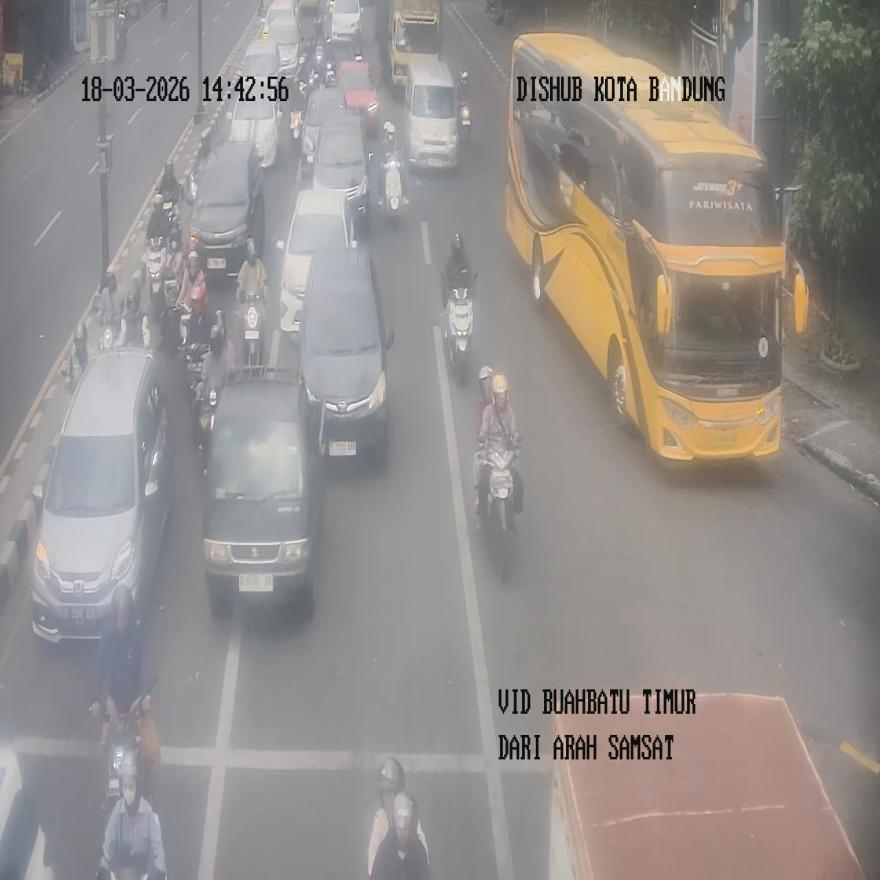Motor: (29, 346, 171, 640), (201, 365, 321, 613), (296, 242, 394, 464), (276, 188, 355, 342), (187, 139, 264, 281), (404, 58, 460, 169)
